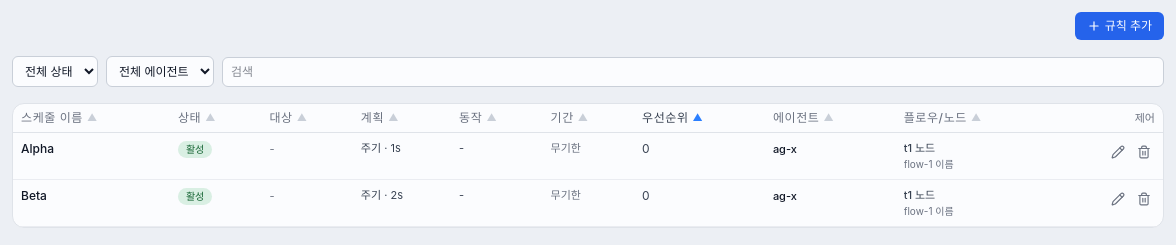
필터 바(상태/에이전트/검색) › 검색어로 스케줄 이름을 필터링한다
Step 1. Type "Alph" into the field with test id "schedule-filter-search" → (693, 72), box top-left (222, 56), bottom-right (1164, 86)
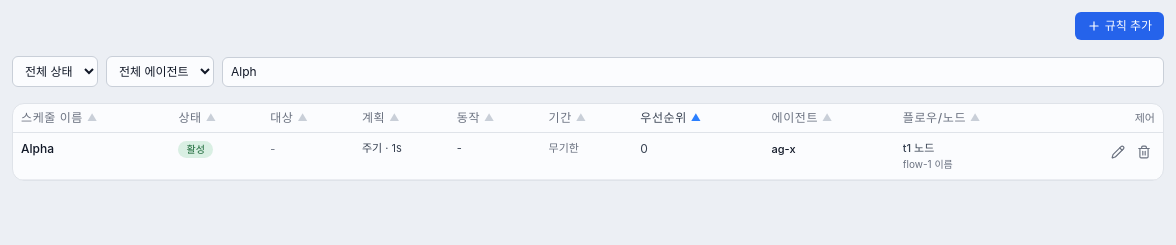
Expected: the row with test id "schedule-row-flow-1-t1-0" is shown, top-left (13, 132), bottom-right (1163, 180)
Expected: the row with test id "schedule-row-flow-1-t1-1" is gone
